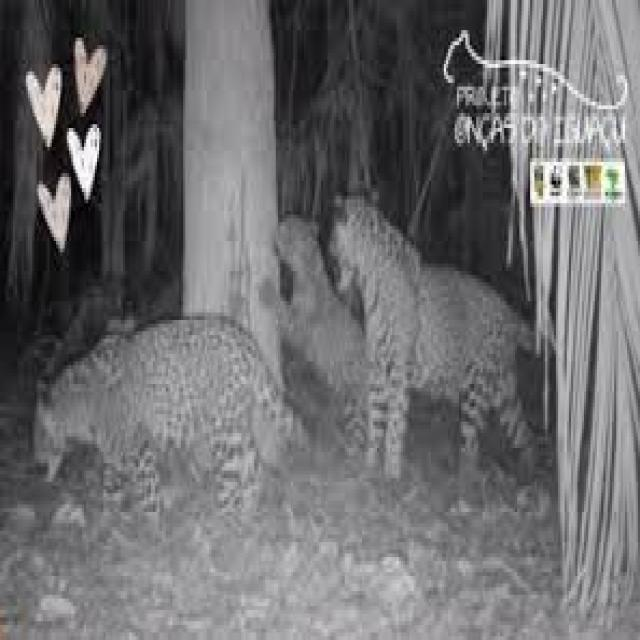Jaguar: (330, 192, 547, 474), (30, 308, 315, 516), (261, 207, 368, 463)
